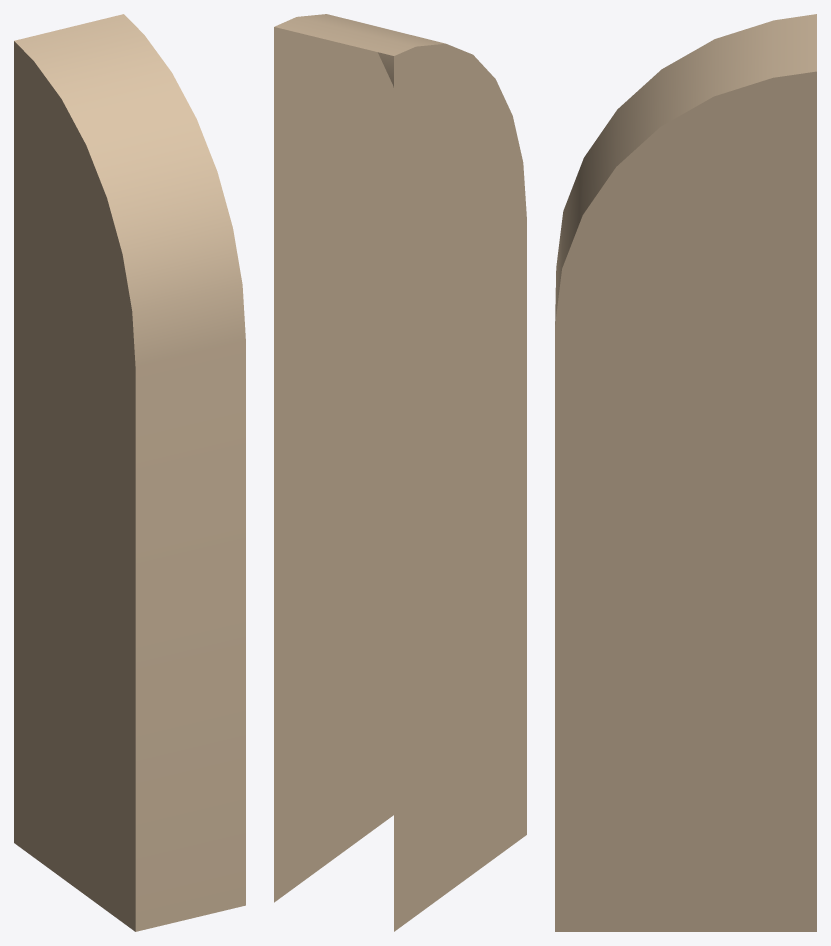
The model's file is wall6.glb.
3 views of the same model, side by side, from view 1: azimuth 30°, elevation 25°; view 2: azimuth 150°, elevation 25°; view 3: azimuth 270°, elevation 25° (orthographic). The views are drawn at different scales.
Parts seen in each view (by area): view 1: wall1.002; view 2: wall1.002; view 3: wall1.002.
Part boxes in pixels (<box>): wall1.002: <box>14,14,245,931</box>; wall1.002: <box>274,14,526,931</box>; wall1.002: <box>555,14,816,931</box>.
Bounding box in the file's own units: 0.3351 × 2.33 × 0.6439.
1 material, 1 textured.
